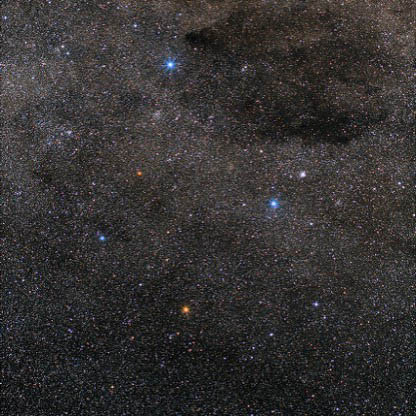Southern Cross: (149, 47, 193, 84), (260, 186, 290, 220), (86, 224, 117, 254), (170, 295, 200, 320)
